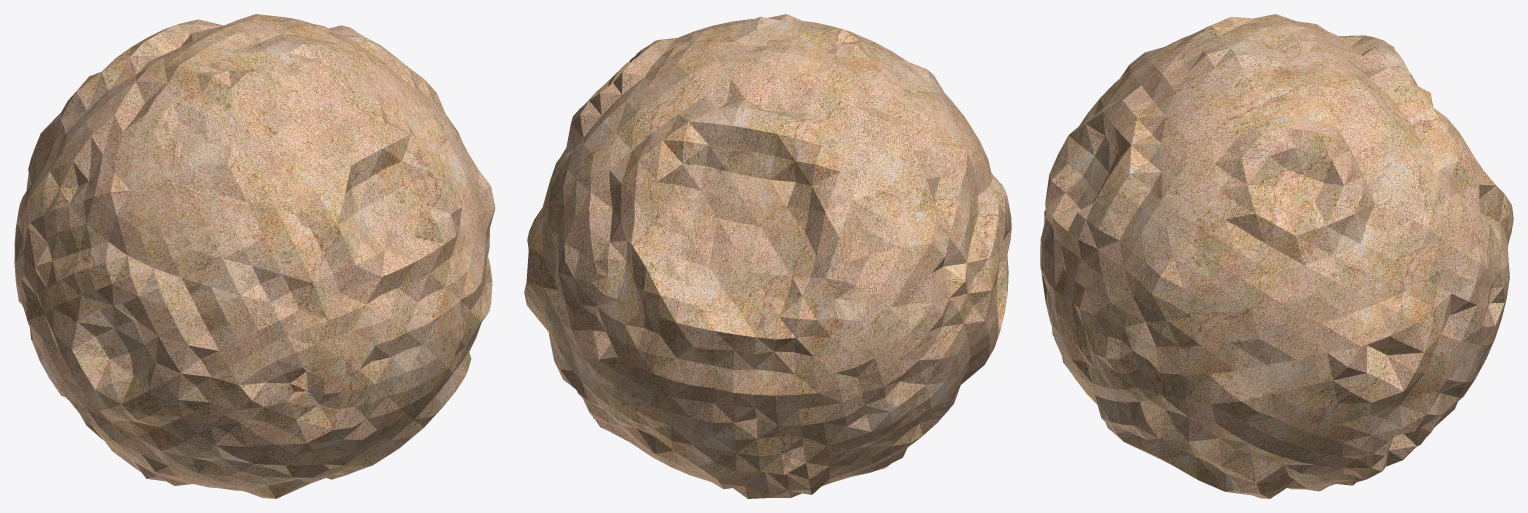
Rendered from RelayPlanetB_bake.dae.
The picture shows the model from 3 angles, left to right: view 1: azimuth 30°, elevation 25°; view 2: azimuth 150°, elevation 25°; view 3: azimuth 270°, elevation 25°; orthographic projection.
Visible parts, largest first — view 1: m0; view 2: m0; view 3: m0.
Boxes of the visible parts, x1,y1,x2,y2 form: m0: [14, 14, 495, 498]; m0: [524, 14, 1011, 498]; m0: [1040, 14, 1513, 498].
Size of the model in its own units: 151 by 151 by 150.
Materials: 2 (2 with a texture image).
